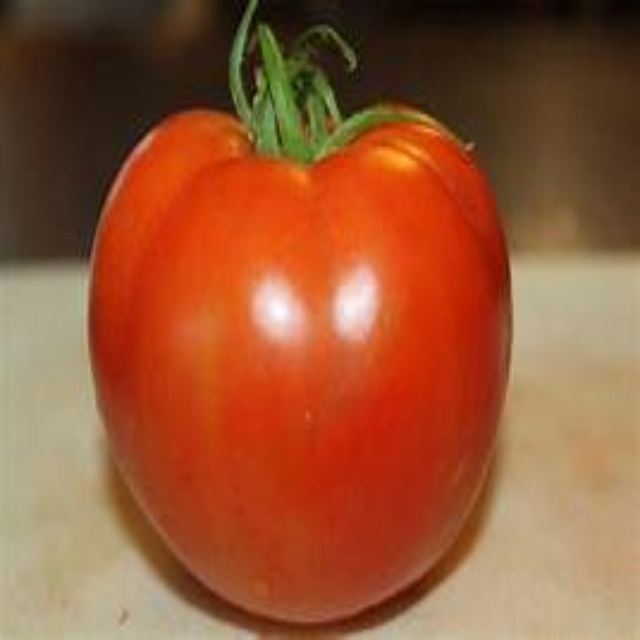tomato: (81, 95, 512, 615)
